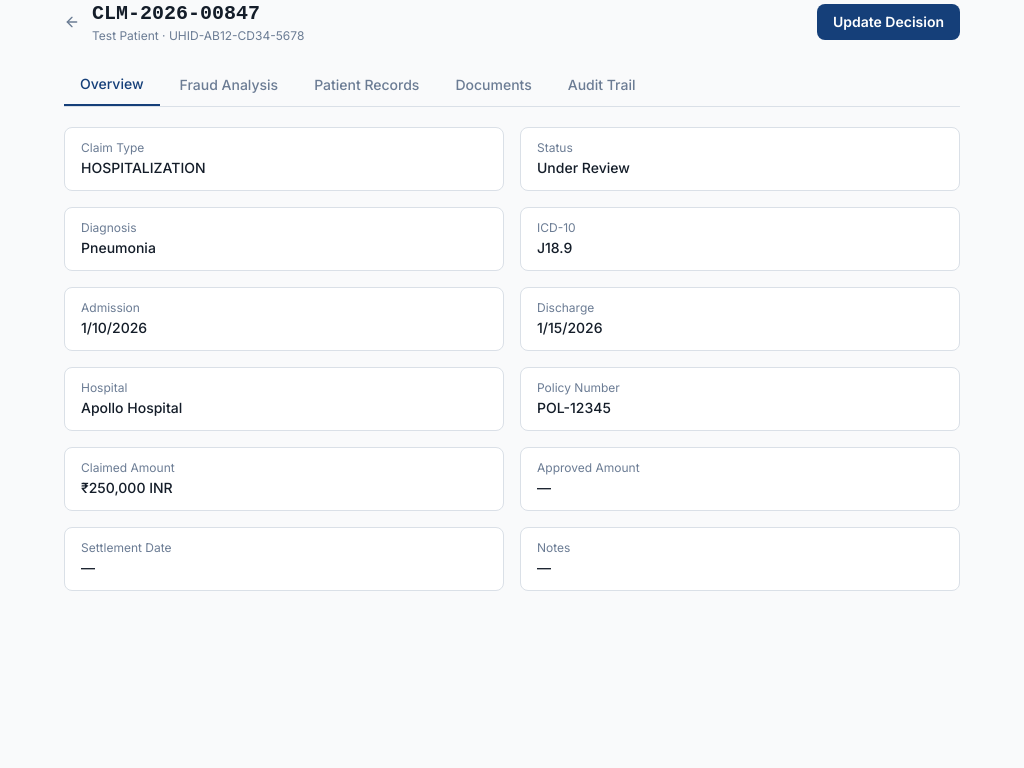
Test: ClaimDetailPage › shows notes required error when submitting REJECTED without notes
Click the button with test id "update-decision-btn".
click(888, 22)  # box [817,4,960,40]
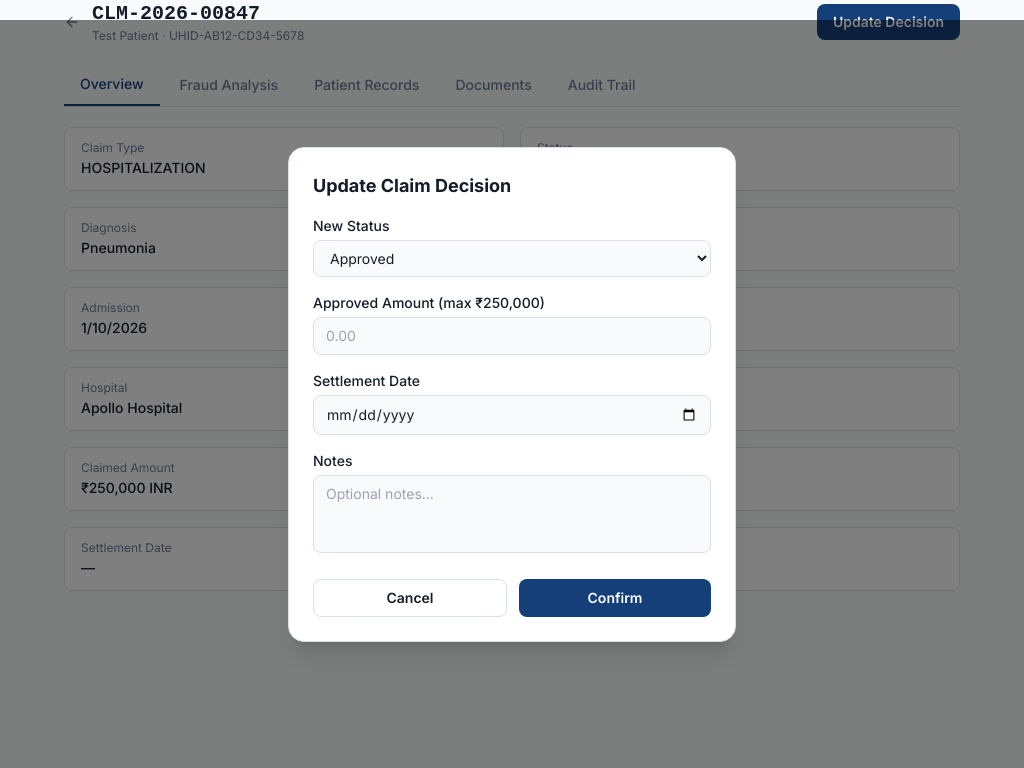
Now the element with test id "decision-dialog" is shown, box [288,146,736,642]
Select "Rejected" in the dropdown with test id "decision-status-select" at (512, 258), box [313,240,711,276]
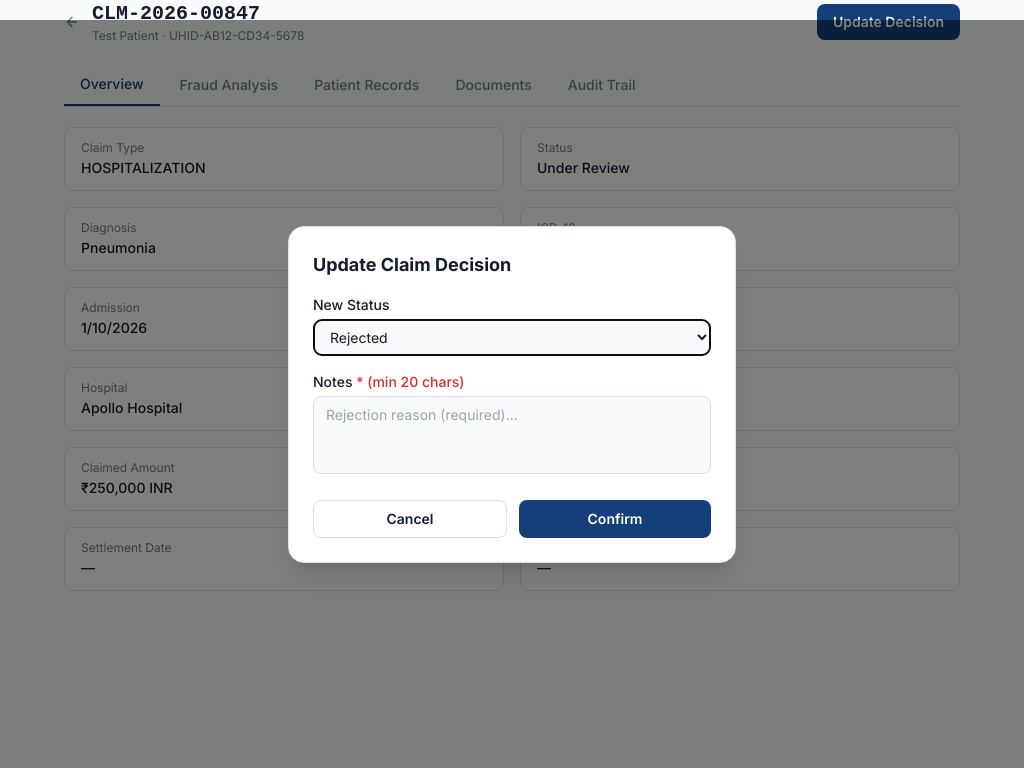
Click the button with test id "confirm-decision-btn".
click(615, 518)  # box [519,500,711,538]
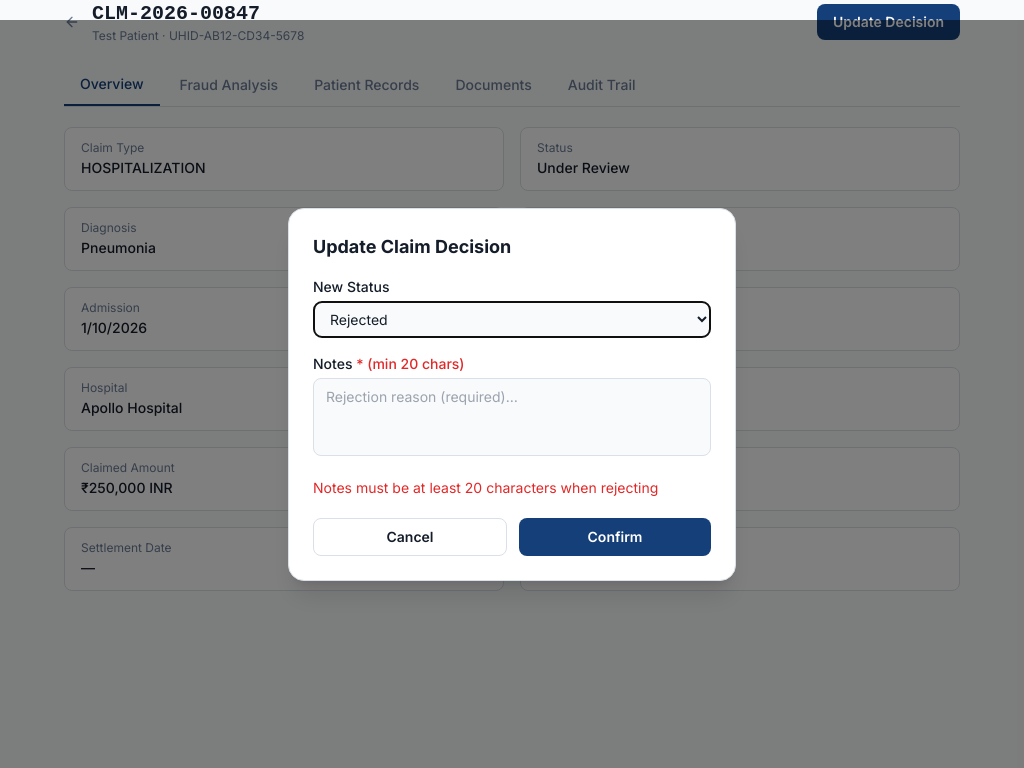
Now the text "Notes must be at least 20 characters when rejecting" is shown, box [313,478,711,498]
